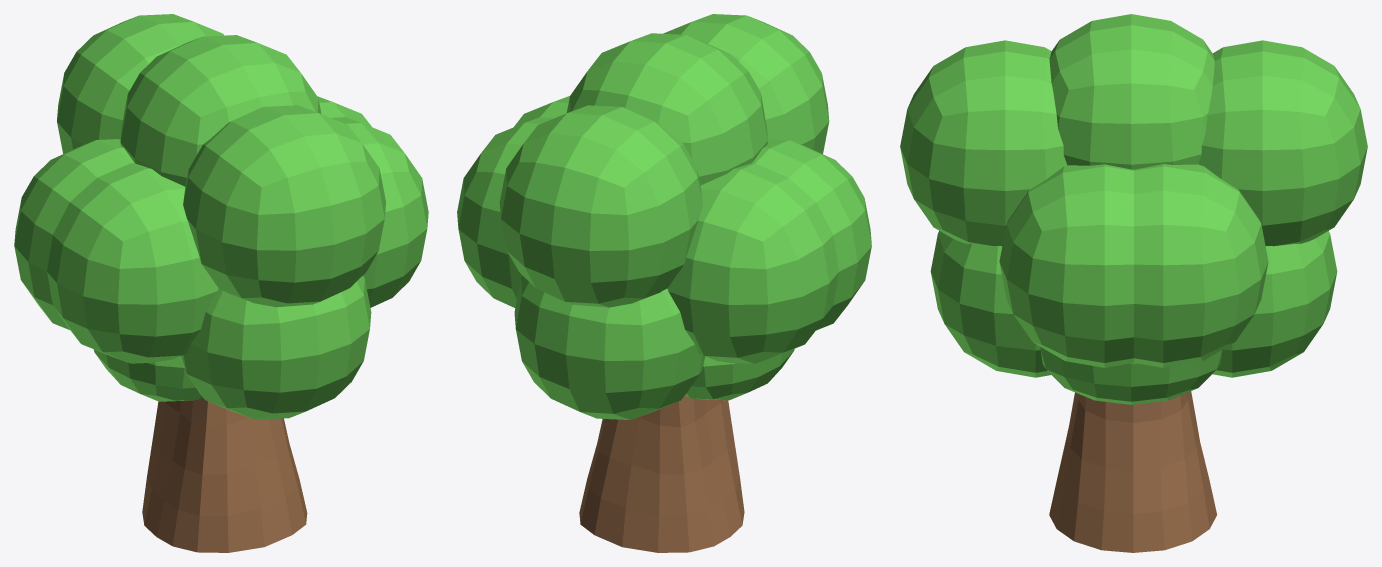
The model's file is arvore.fbx.
3 renders of one model, left to right at view 1: azimuth 30°, elevation 25°; view 2: azimuth 150°, elevation 25°; view 3: azimuth 270°, elevation 25°, orthographic. The views are drawn at different scales.
Parts seen in each view (by area): view 1: Cube.001, Cube; view 2: Cube.001, Cube; view 3: Cube.001, Cube.
Boxes of the visible parts, <box> form: Cube.001: <box>14,14,428,419</box>; Cube: <box>142,397,307,552</box>; Cube.001: <box>457,14,871,419</box>; Cube: <box>579,396,744,552</box>; Cube.001: <box>900,14,1367,404</box>; Cube: <box>1049,391,1216,552</box>.
Size of the model in its own units: 406 by 517 by 445.
